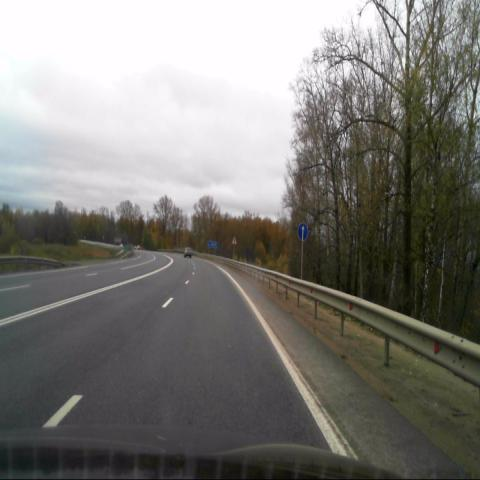4_1_1: (297, 221, 308, 242)
